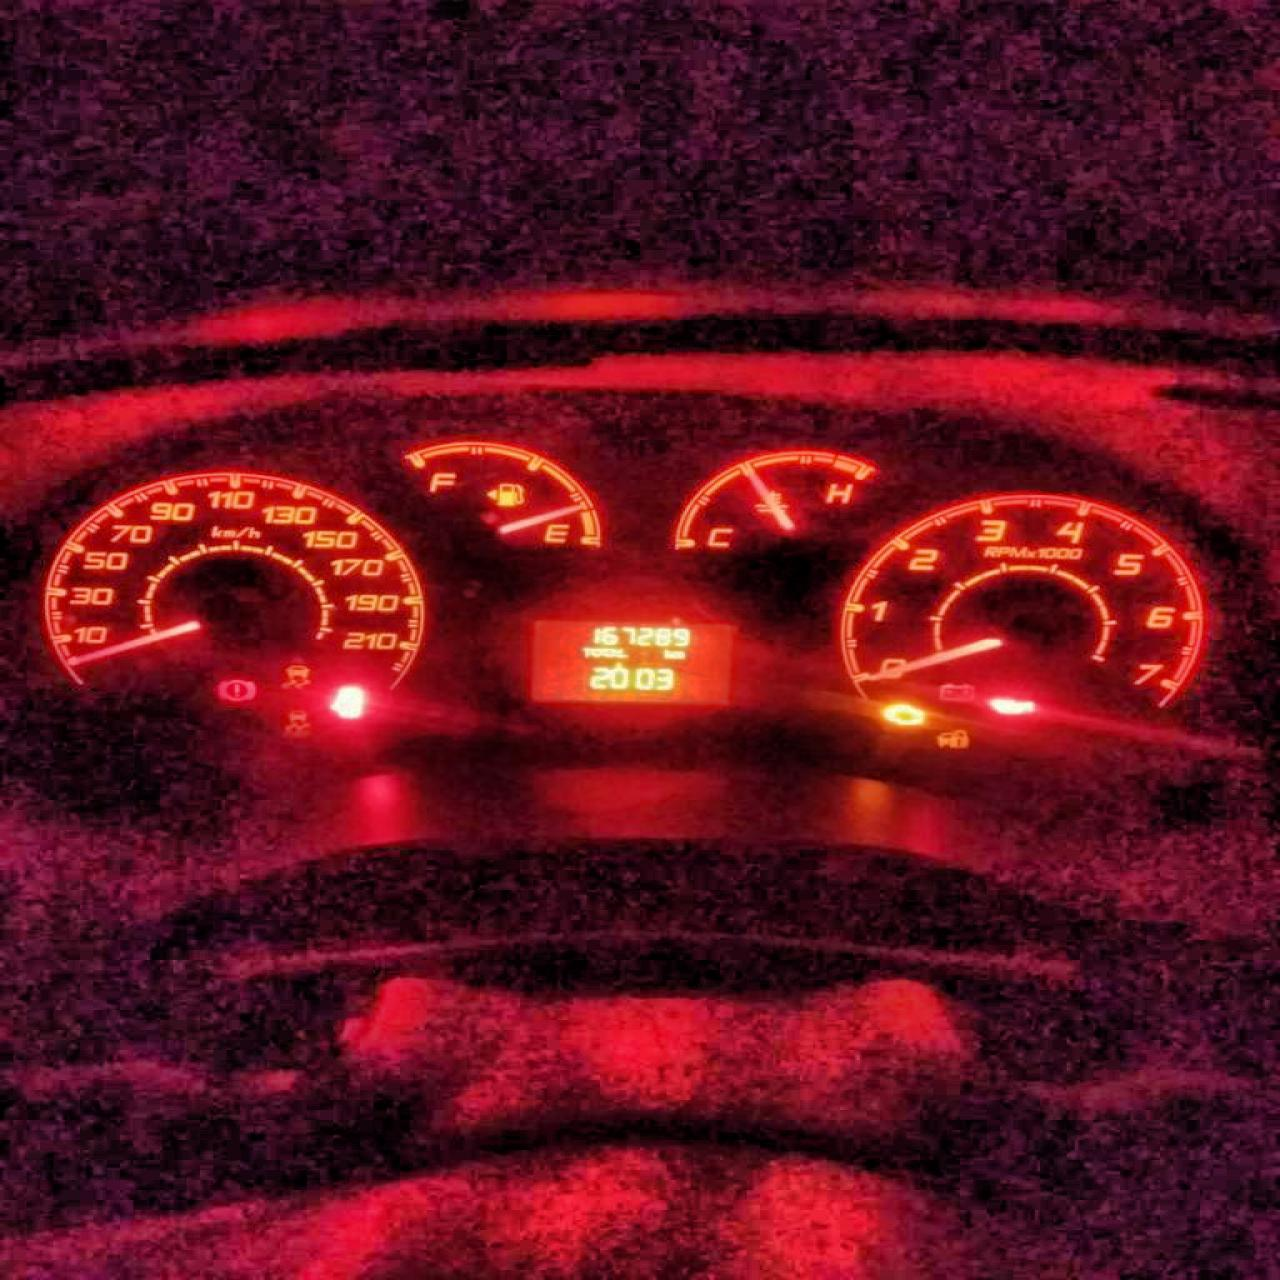0: (632, 665, 652, 689), (608, 665, 627, 689)
1: (592, 625, 598, 644)
2: (588, 665, 608, 689), (635, 625, 653, 645)
3: (654, 666, 674, 690)
6: (600, 625, 617, 645)
7: (618, 624, 635, 645)
8: (653, 626, 669, 645)
9: (672, 626, 690, 645)
X: (672, 649, 686, 659), (617, 647, 628, 658), (590, 647, 600, 658), (580, 647, 590, 658), (601, 646, 611, 656), (662, 648, 670, 660), (611, 647, 617, 658)
odometer: (522, 614, 741, 704)
